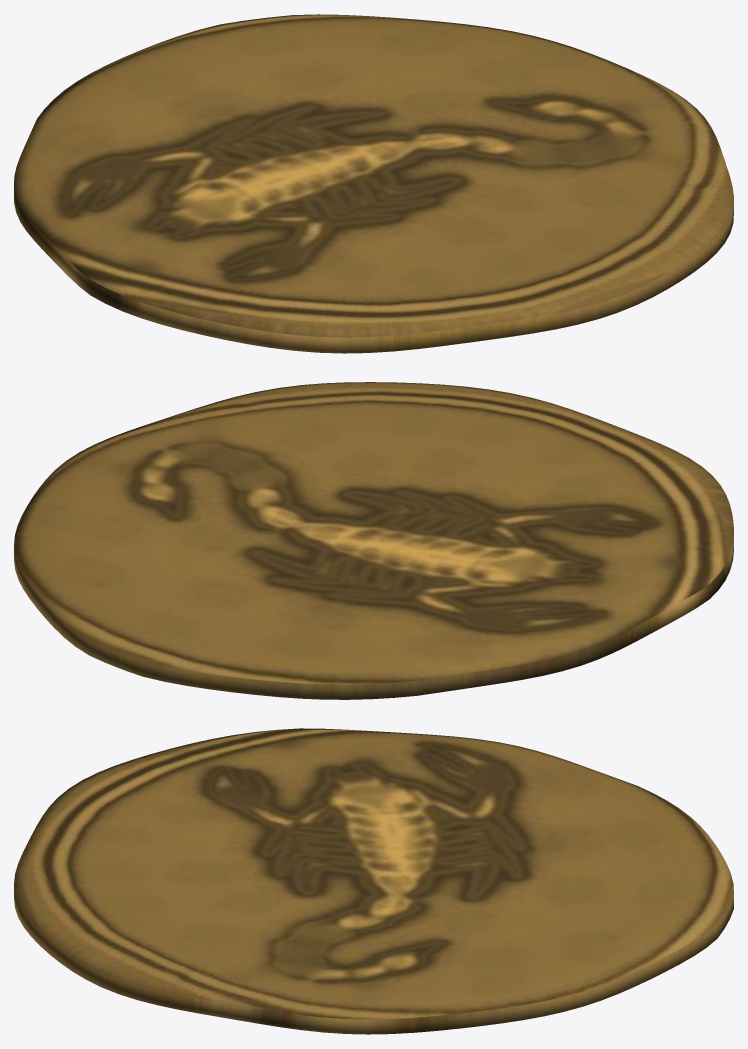
The model's file is zodiac_08.glb.
3 renders of one model, top to bottom at view 1: azimuth 30°, elevation 25°; view 2: azimuth 150°, elevation 25°; view 3: azimuth 270°, elevation 25°, orthographic. The views are drawn at different scales.
Visible parts, largest first — view 1: zodiac_08; view 2: zodiac_08; view 3: zodiac_08.
Boxes of the visible parts, left/top/right/bottom form: zodiac_08: left=14, top=14, right=733, bottom=353; zodiac_08: left=14, top=382, right=733, bottom=699; zodiac_08: left=14, top=728, right=733, bottom=1034.
Bounding box in the file's own units: 0.9341 × 0.0408 × 0.9764.
Materials: 1 (1 with a texture image).
